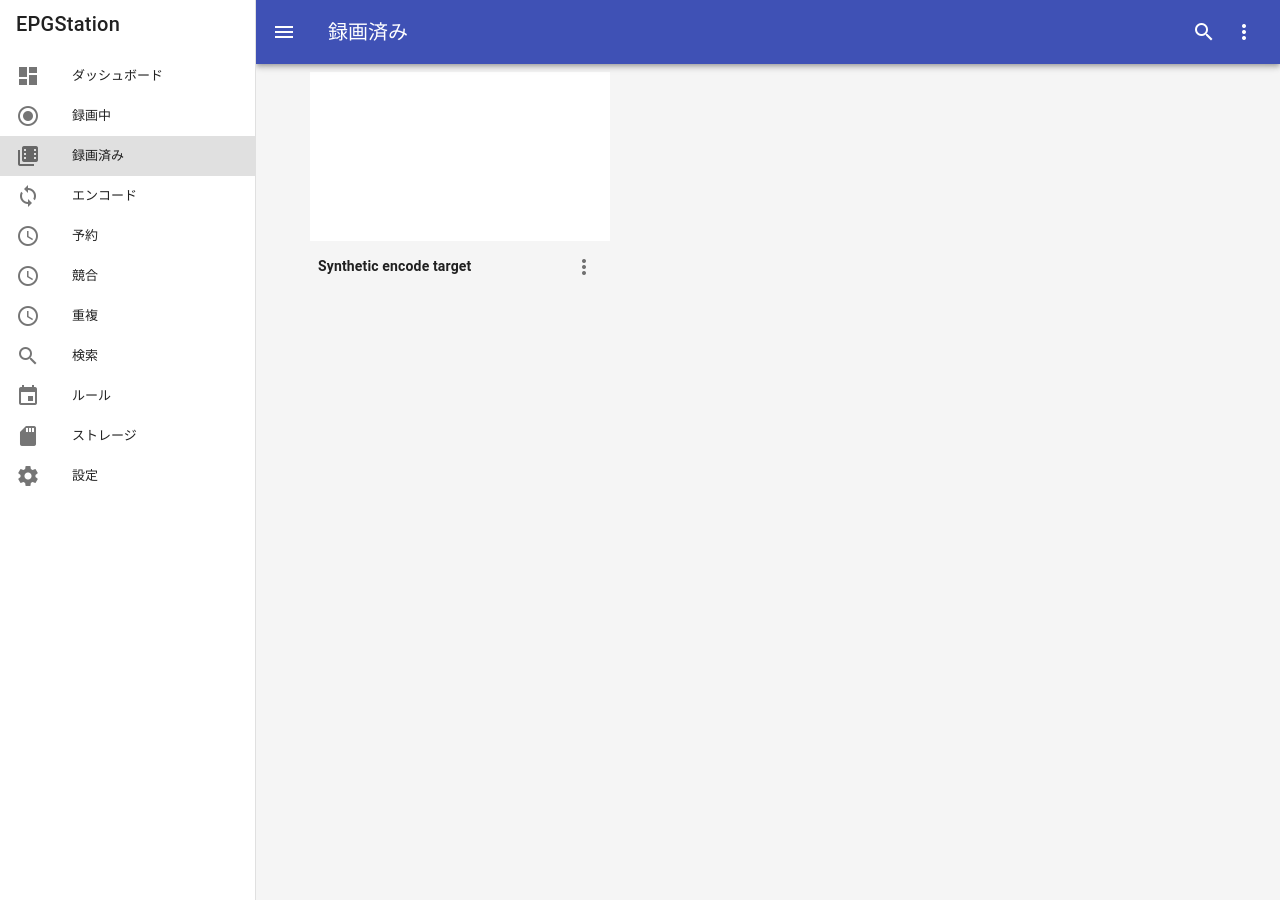
Test: Recorded list actions › [AC 2.19] [AC 3.17] [AC 3.19] uses the first recorded directory for add encode when storage has no valid parent directory
Expected: the heading "Synthetic encode target" is shown, [318,258,471,274]
What coordinates should you click on to do the following:
click the button named "録画メニュー: Synthetic encode target"
I would click on:
 (584, 267)
Its box is [566,249,602,285].
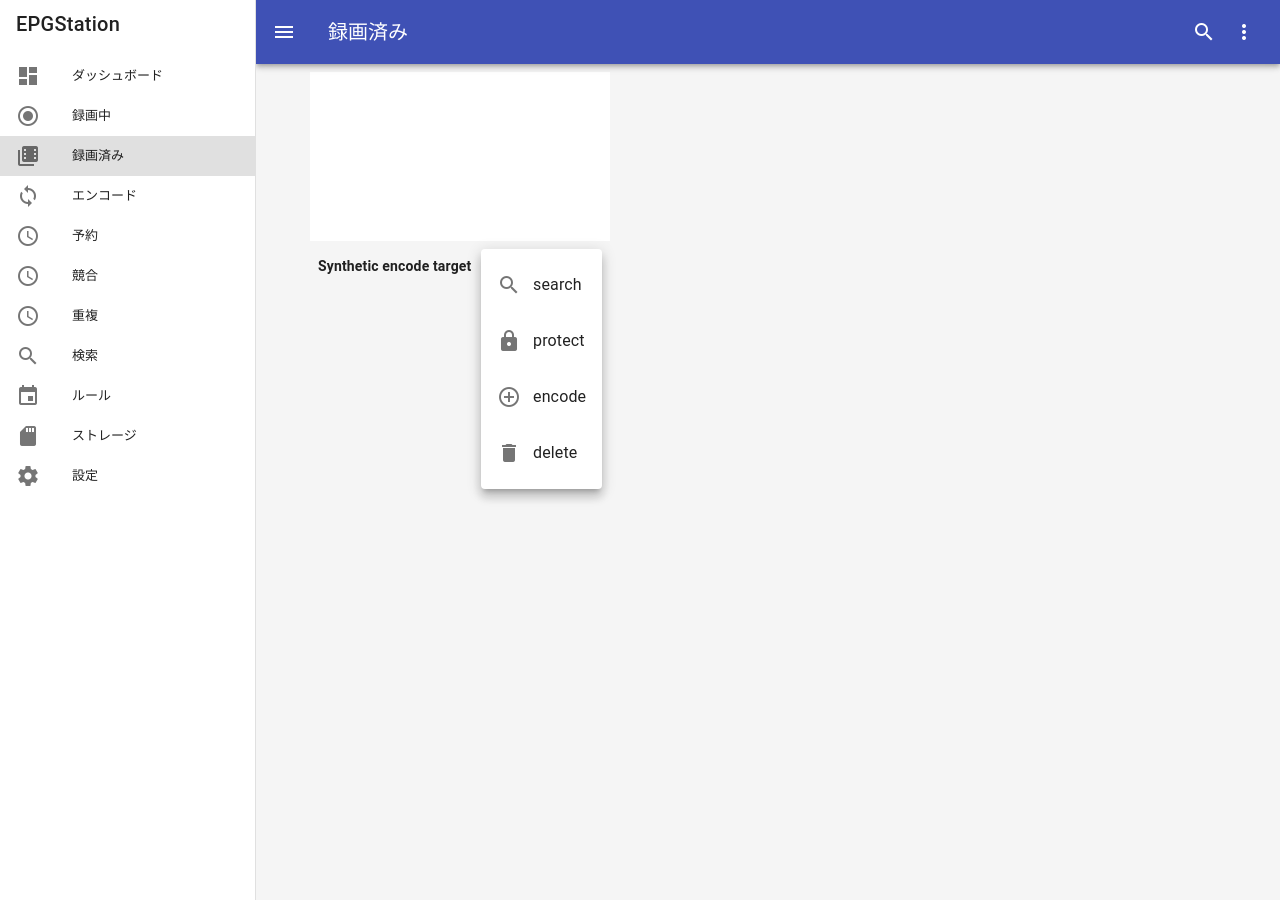
What coordinates should you click on to do the following:
click the menu item "encode"
I would click on:
 (542, 397)
Its box is [497,385,586,409].
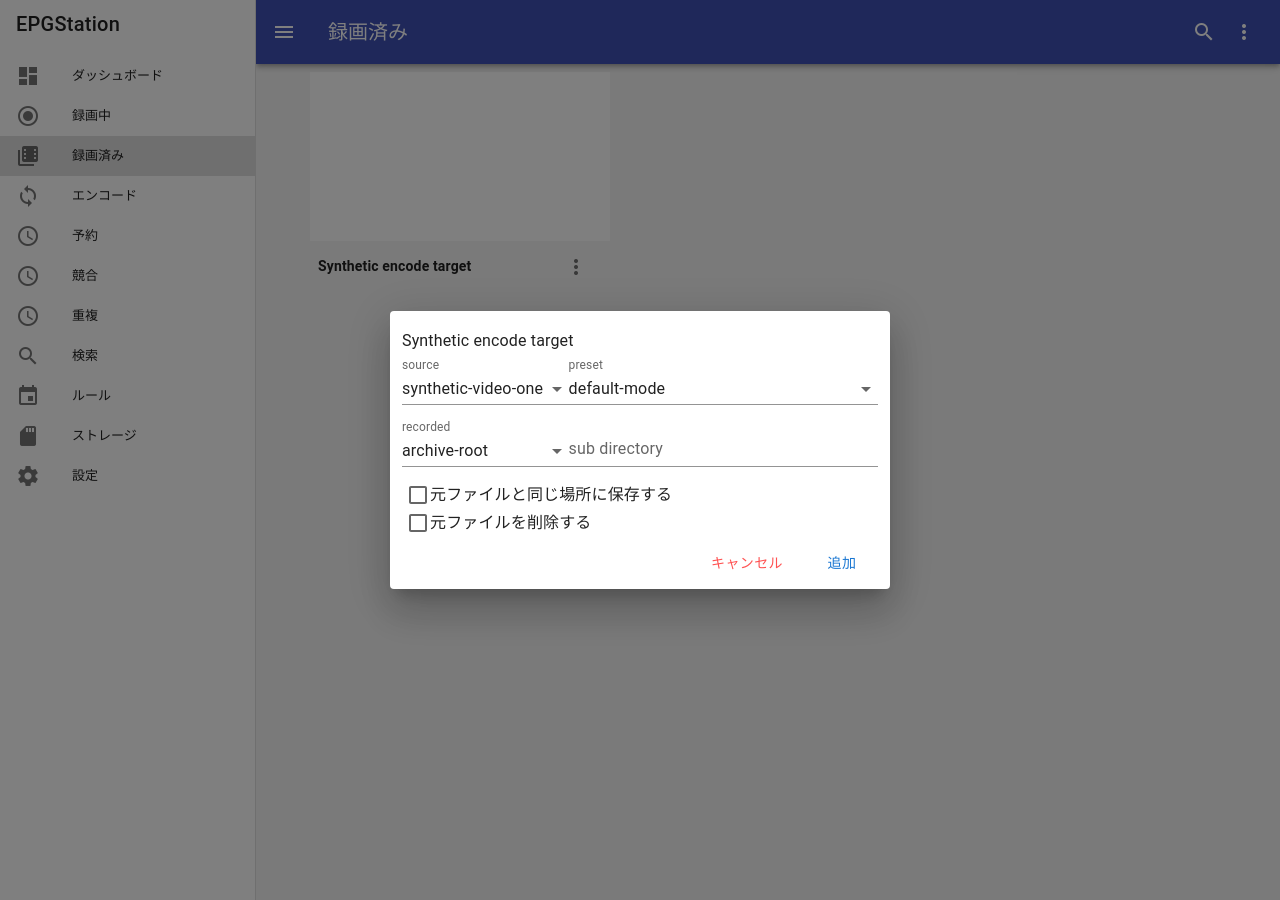
Now the dropdown named "recorded" reads "archive-root", box [402,441,488,460]
What coordinates should you click on to do the following:
click the button "追加"
I would click on:
 (842, 563)
Its box is [810,545,874,581].
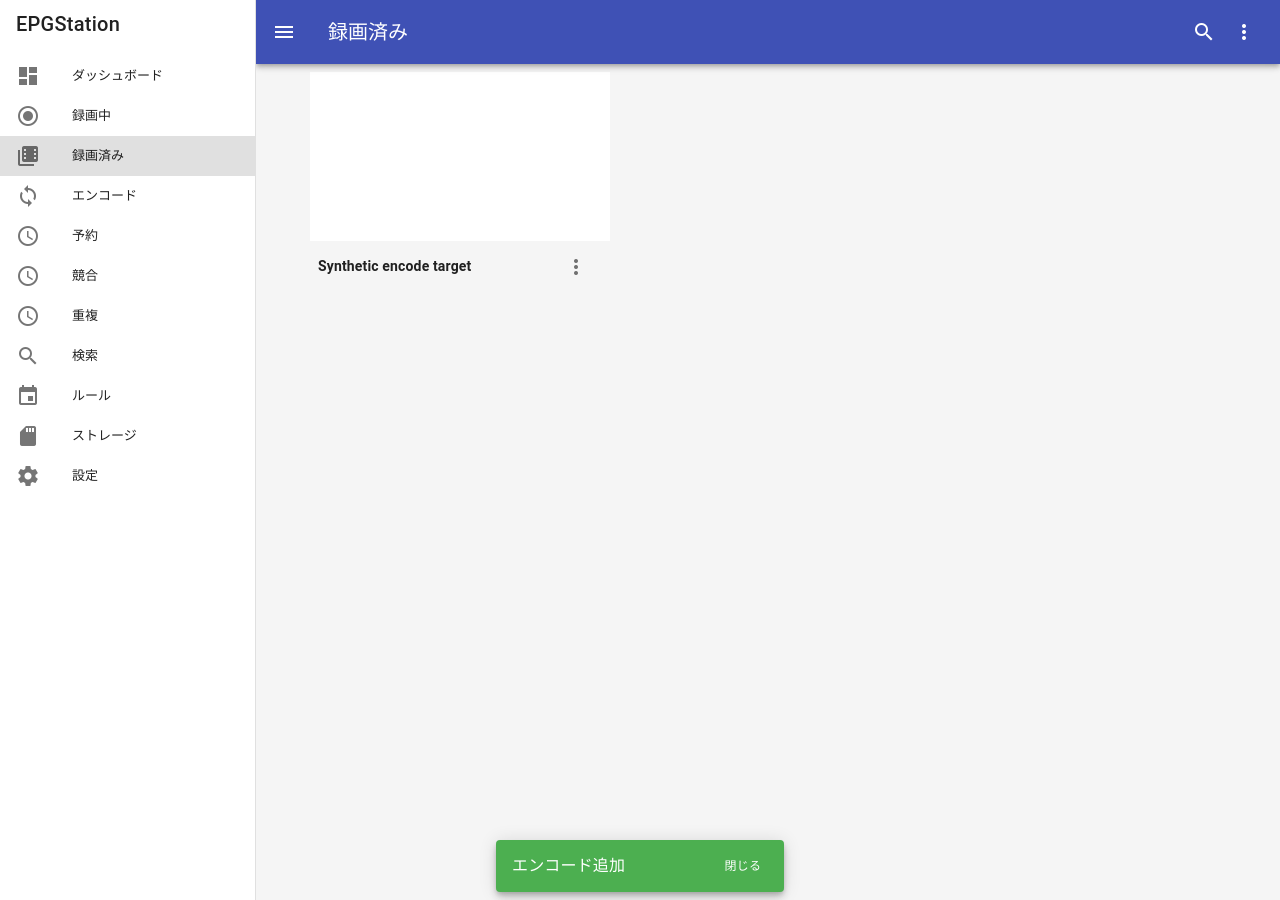
Now the text "エンコード追加" is shown, box [512,856,625,875]
